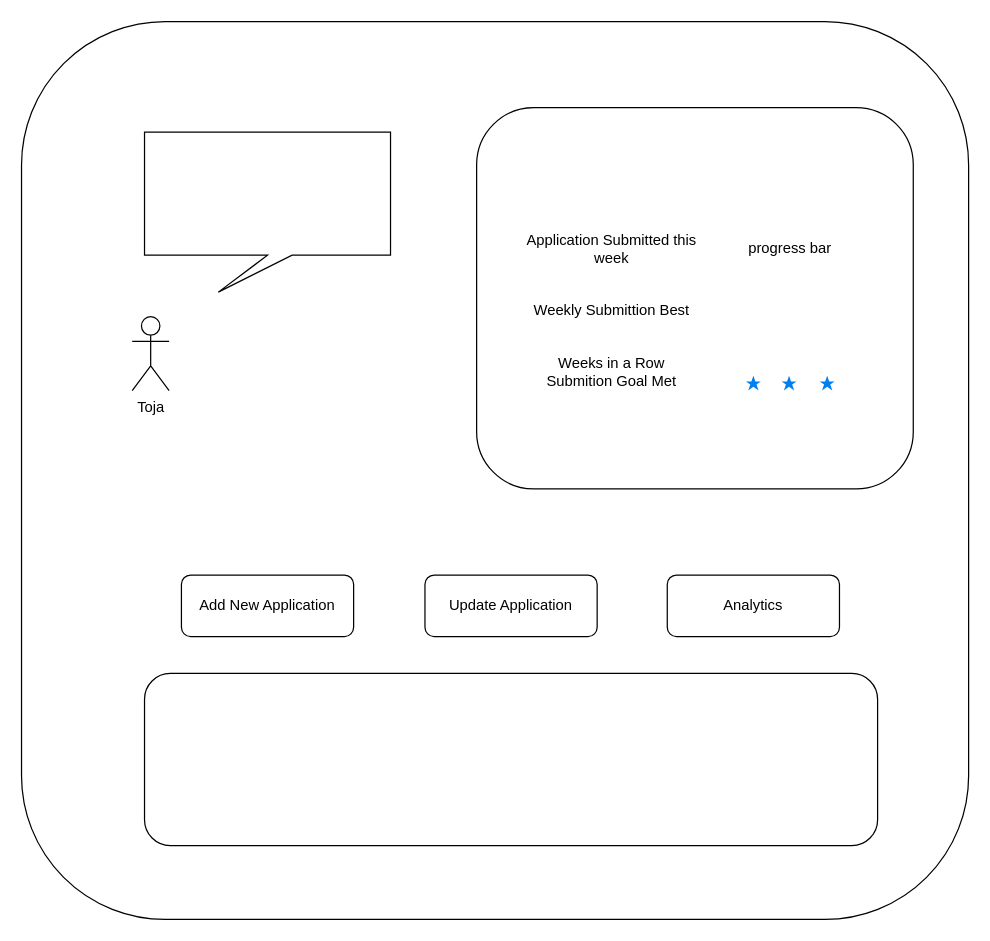
The diagram is 990 pixels wide and 941 high, and some of its shapes have lost their labels. Here are the shapes that lost their labels. From the top down, the centre of each, then its label:
At (x=267, y=211): "narrative dialogue".
At (x=510, y=759): "Github Style calendar".
